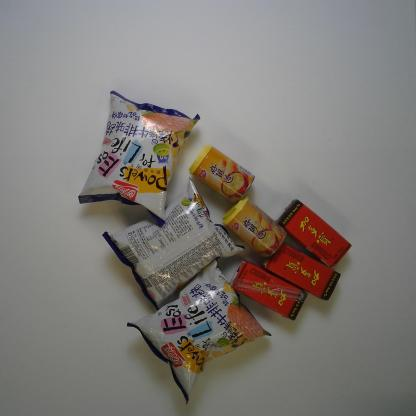Canned Food: (221, 193, 288, 258), (188, 144, 256, 206)
Drink: (276, 198, 352, 269), (230, 257, 309, 322), (261, 243, 342, 301)
Puffed Food: (126, 253, 272, 407), (101, 176, 246, 314), (78, 89, 201, 228)
